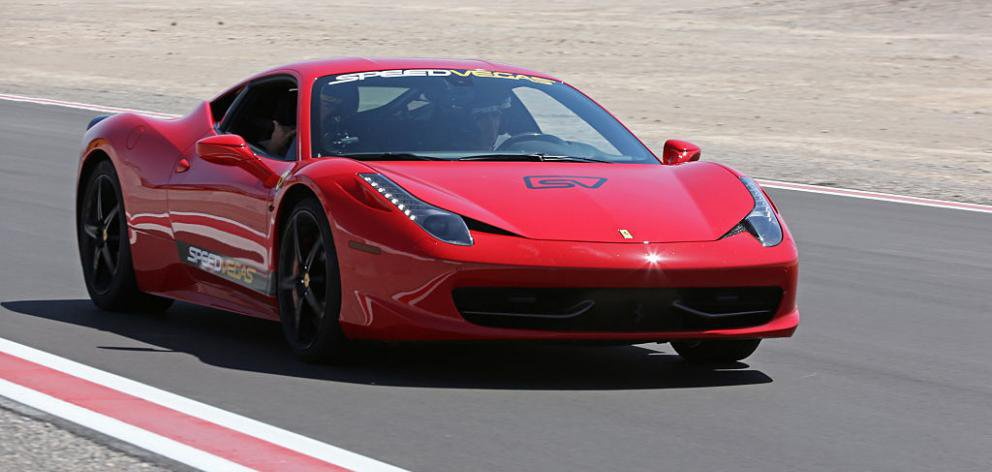car: (66, 57, 803, 369)
